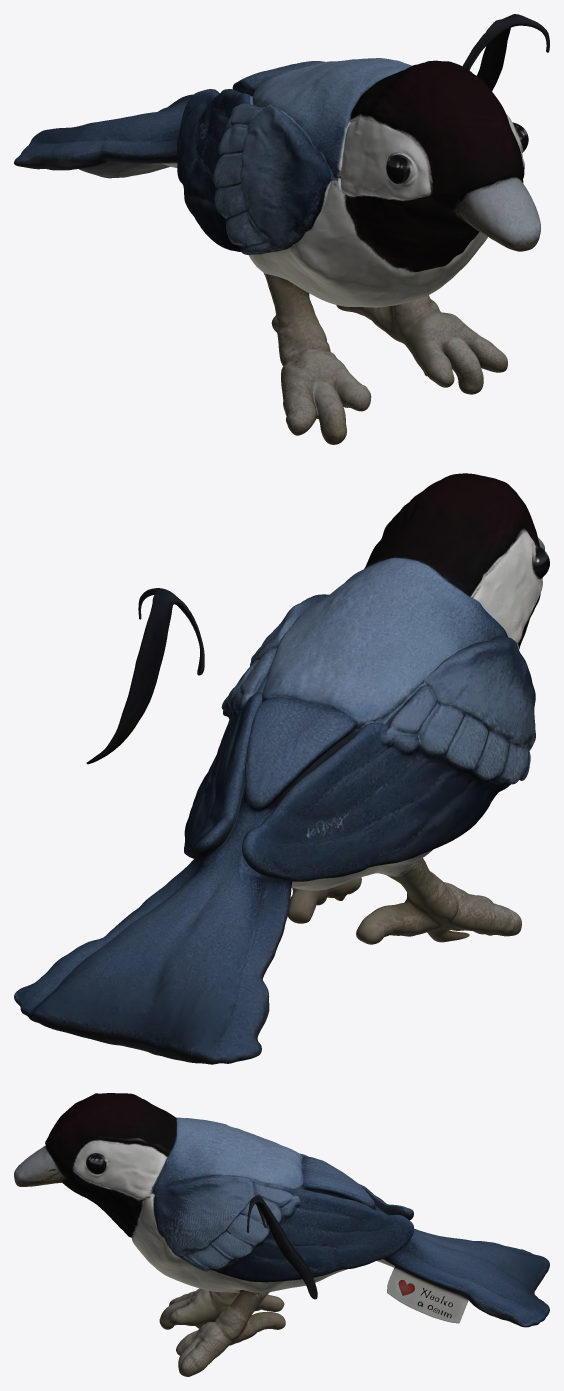
Rendered from peluche_pequeno_de_urraca_de_cola_blanca.glb.
3 renders of one model, top to bottom at view 1: azimuth 30°, elevation 25°; view 2: azimuth 150°, elevation 25°; view 3: azimuth 270°, elevation 25°, orthographic. The views are drawn at different scales.
Parts seen in each view (by area): view 1: tripo_node_72c04268-42fa-4b9c-9533-fd62ab42e16e; view 2: tripo_node_72c04268-42fa-4b9c-9533-fd62ab42e16e; view 3: tripo_node_72c04268-42fa-4b9c-9533-fd62ab42e16e.
Boxes of the visible parts, <box> form: tripo_node_72c04268-42fa-4b9c-9533-fd62ab42e16e: <box>14,14,549,444</box>; tripo_node_72c04268-42fa-4b9c-9533-fd62ab42e16e: <box>14,473,549,1064</box>; tripo_node_72c04268-42fa-4b9c-9533-fd62ab42e16e: <box>14,1093,549,1376</box>.
Bounding box in the file's own units: 15885 × 17118 × 32767.
1 material, 1 textured.
